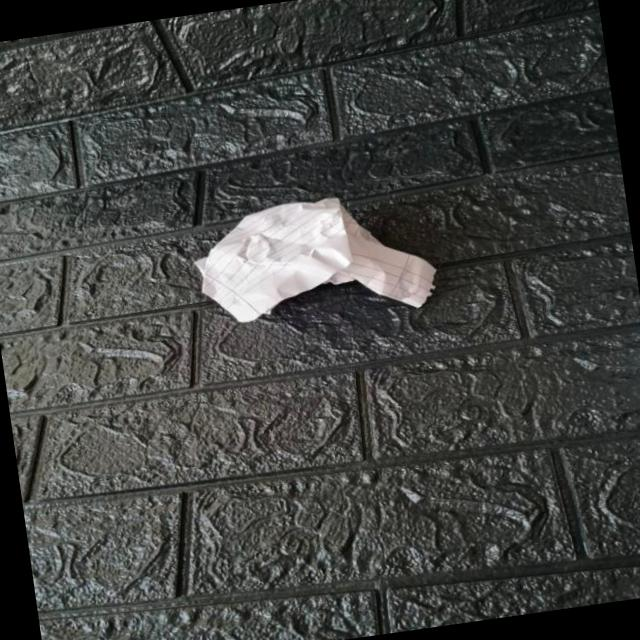cardboard paper: (194, 197, 433, 321)
